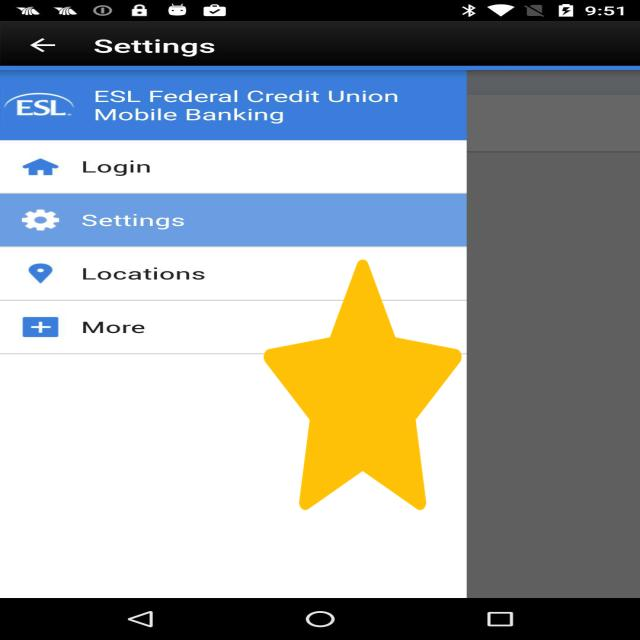forced continuity: (264, 260, 462, 510)
